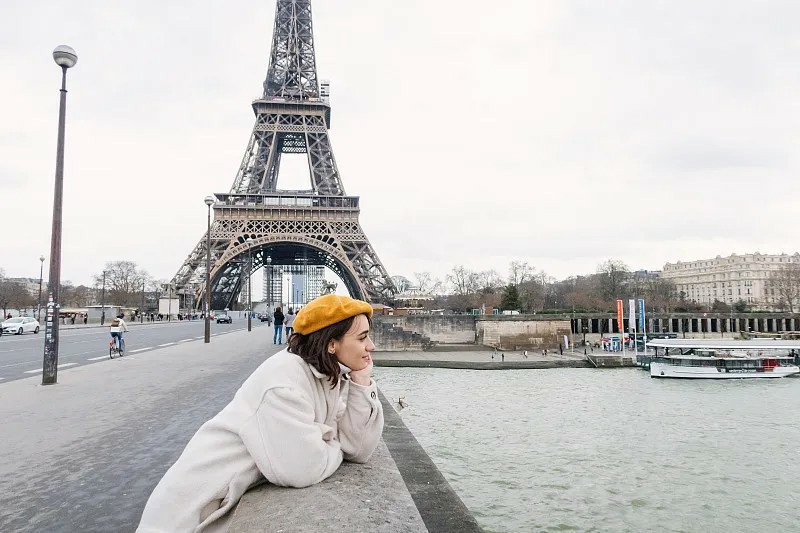Eiffel: (162, 1, 400, 317)
